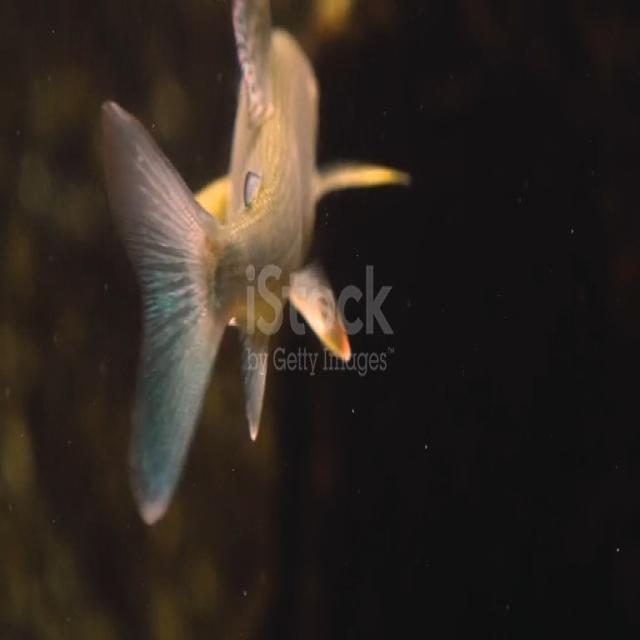fish: (92, 0, 416, 532)
